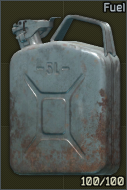Metal fuel tank: (0, 0, 127, 190)
